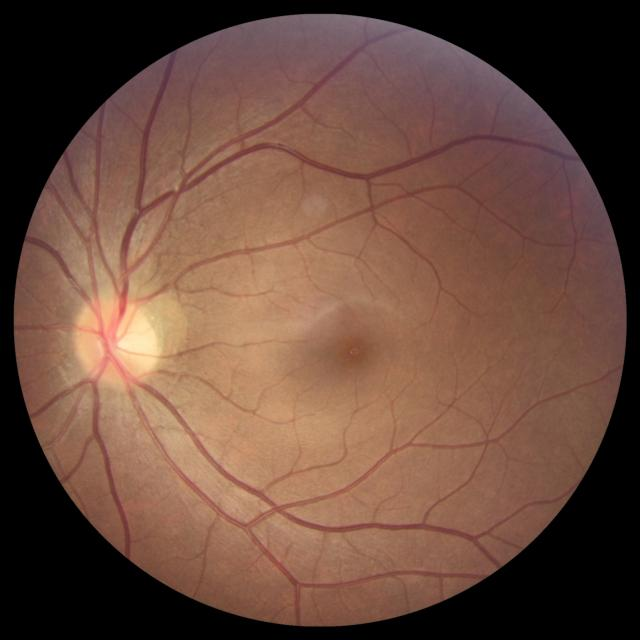OC: (99, 326, 132, 359)
OD: (71, 297, 161, 389)
